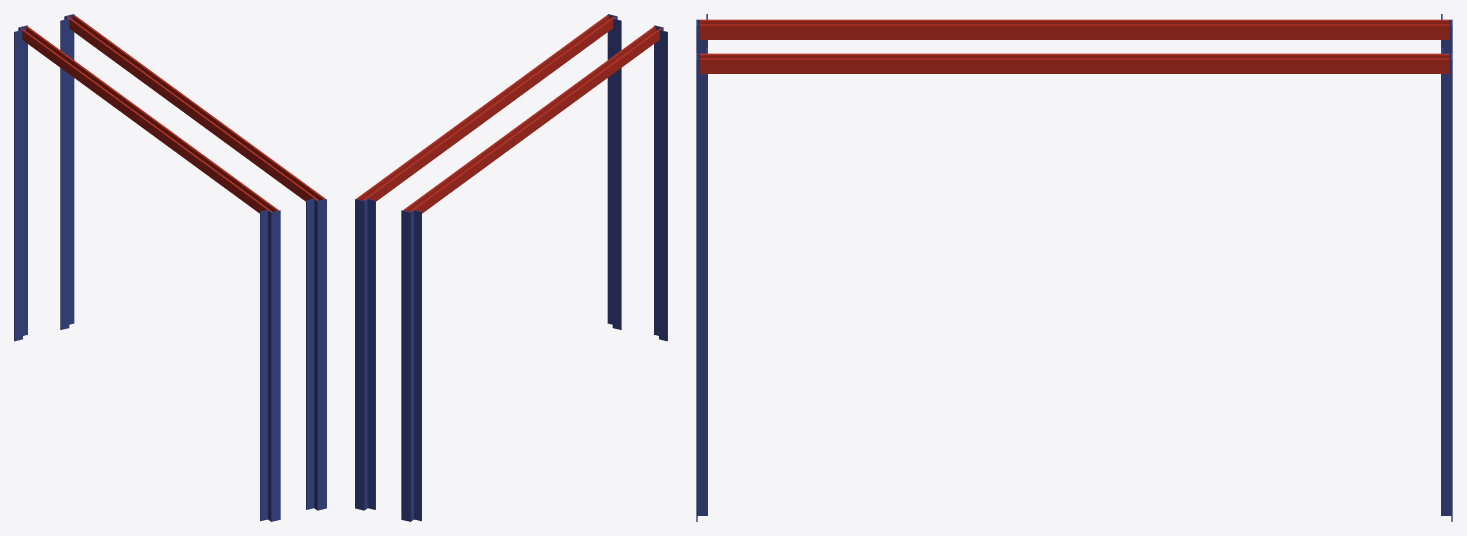
File: pstTrack3.glb
3 views of the same model, side by side, from view 1: azimuth 30°, elevation 25°; view 2: azimuth 150°, elevation 25°; view 3: azimuth 270°, elevation 25° (orthographic). The views are drawn at different scales.
Parts seen in each view (by area): view 1: 02 - Default001.2, 03 - Default003.3; view 2: 02 - Default001.2, 03 - Default003.3; view 3: 03 - Default003.3, 02 - Default001.2.
Part boxes in pixels (x1=…): 02 - Default001.2: x1=14, y1=14, x2=326, y2=521; 03 - Default003.3: x1=20, y1=15, x2=325, y2=213; 02 - Default001.2: x1=355, y1=14, x2=667, y2=521; 03 - Default003.3: x1=356, y1=15, x2=661, y2=213; 03 - Default003.3: x1=700, y1=19, x2=1449, y2=73; 02 - Default001.2: x1=696, y1=14, x2=1452, y2=521.
Size of the model in its own units: 744 by 3487 by 5175.
